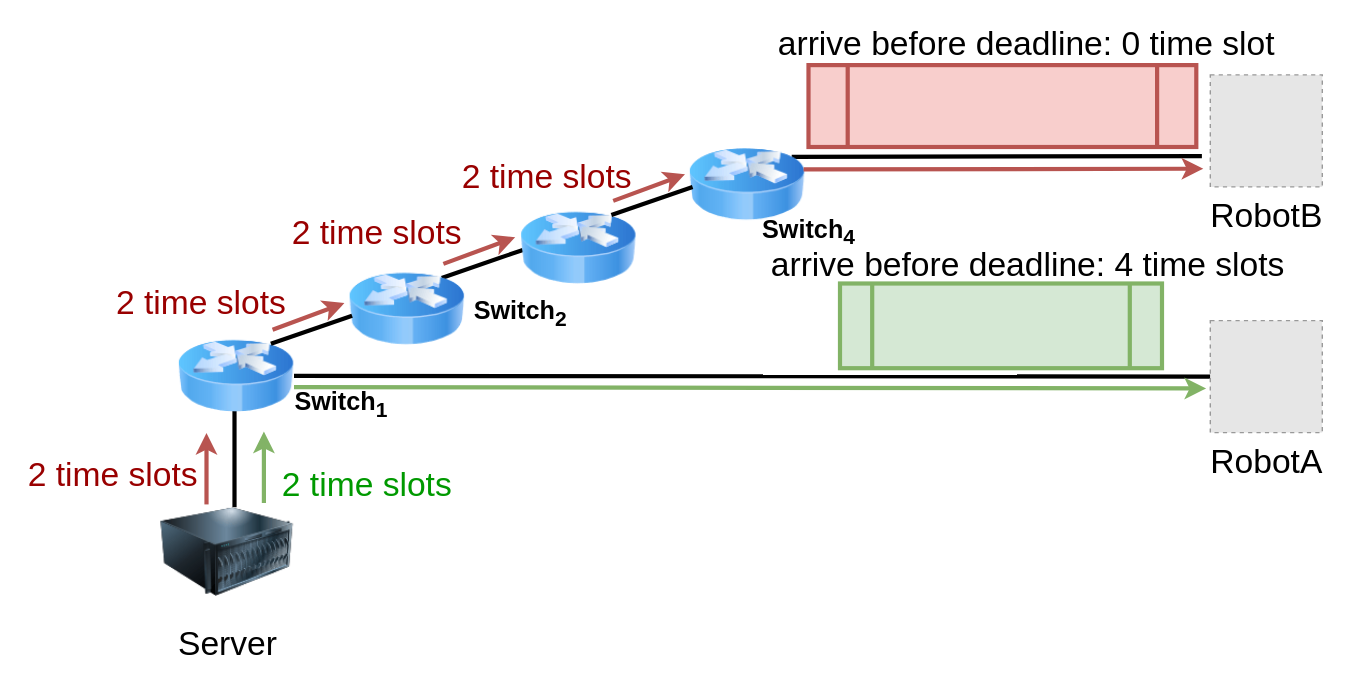
The diagram is 1347 pixels wide and 690 high, and some of its shapes have lost their labels. Grey dashed boxes stand in for pictures. Each missing label, with the centre of its shape:
packet a ddl: 6 time slots: point 1000,325
packet b ddl: 8 time slots: point 1002,105
Switch 3: point 746,184
